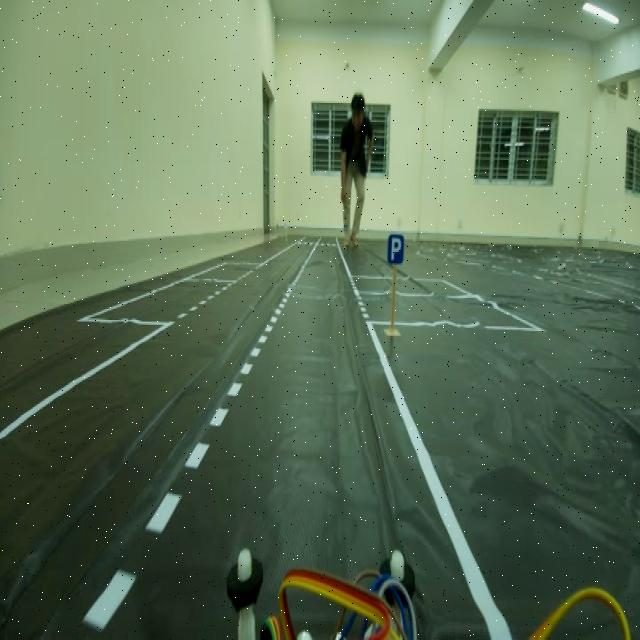parking: (382, 224, 408, 273)
